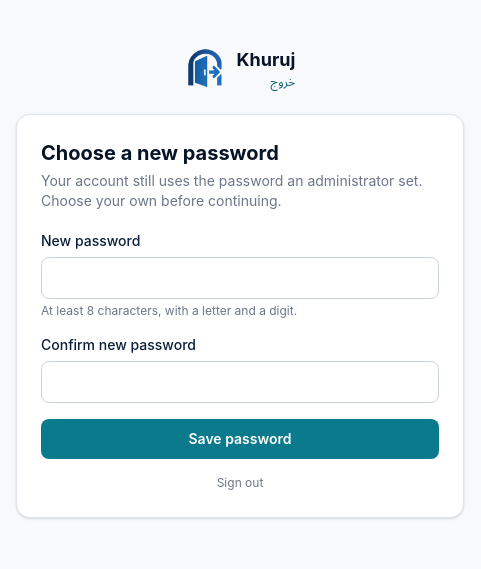
Test: ChangePasswordPage › shows the error and does not redirect when the change fails
Type "BrandNew#1" into the password field labelled "New password" at x=240, y=278, box 41,257 -> 439,299
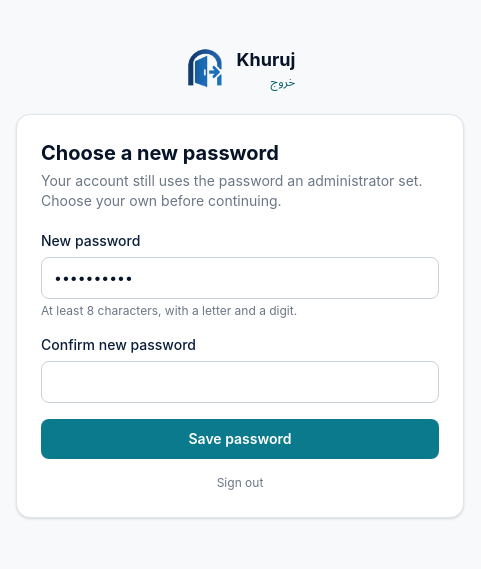
Type "BrandNew#1" into the password field labelled "Confirm new password" at x=240, y=382, box 41,361 -> 439,403
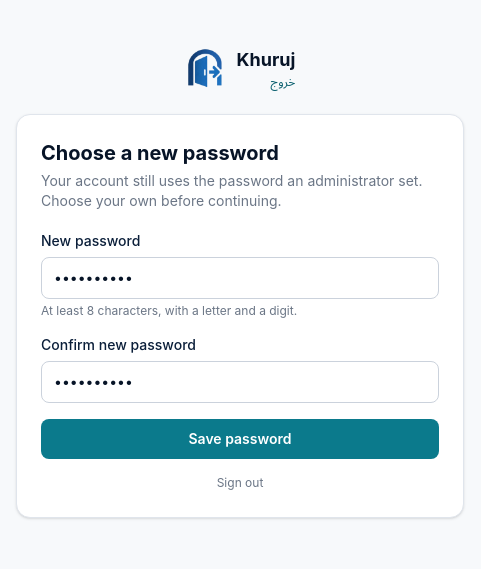
Click the button "Save password" at x=240, y=439, box 41,419 -> 439,459
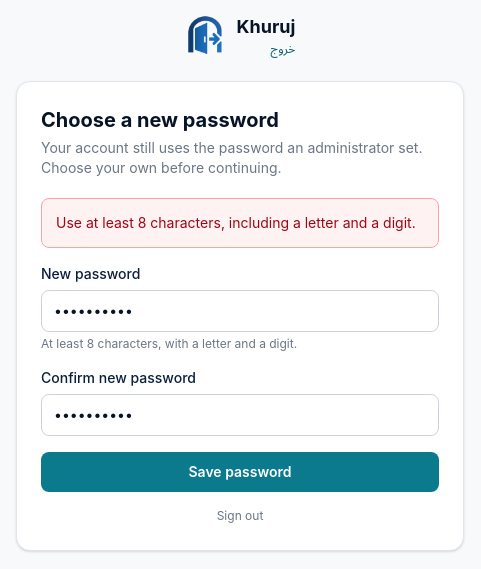
Expected: the text "Use at least 8 characters, including a letter and a digit." is shown, 41,198 -> 439,248
